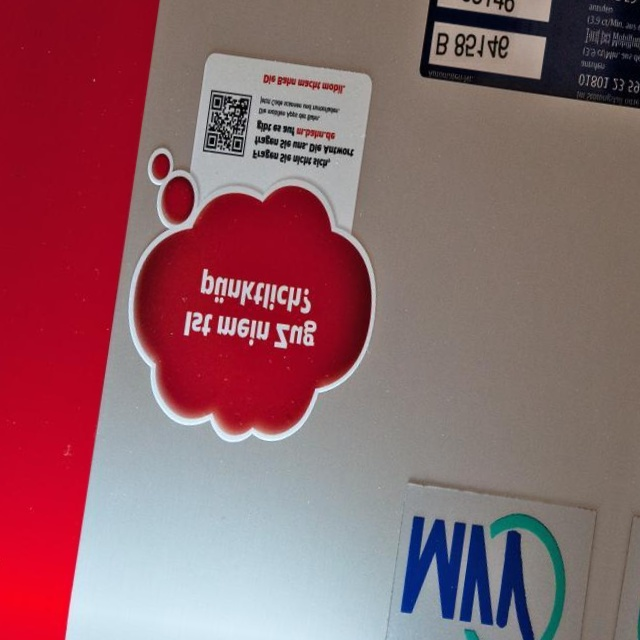qr-code: (206, 95, 248, 153)
